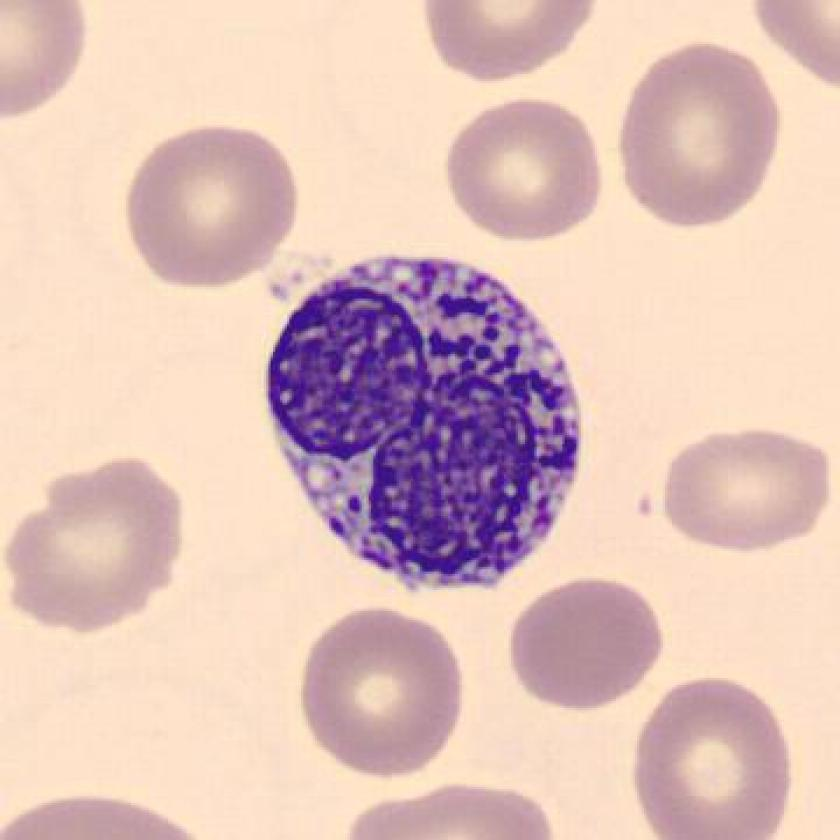basophil: (255, 239, 587, 591)
